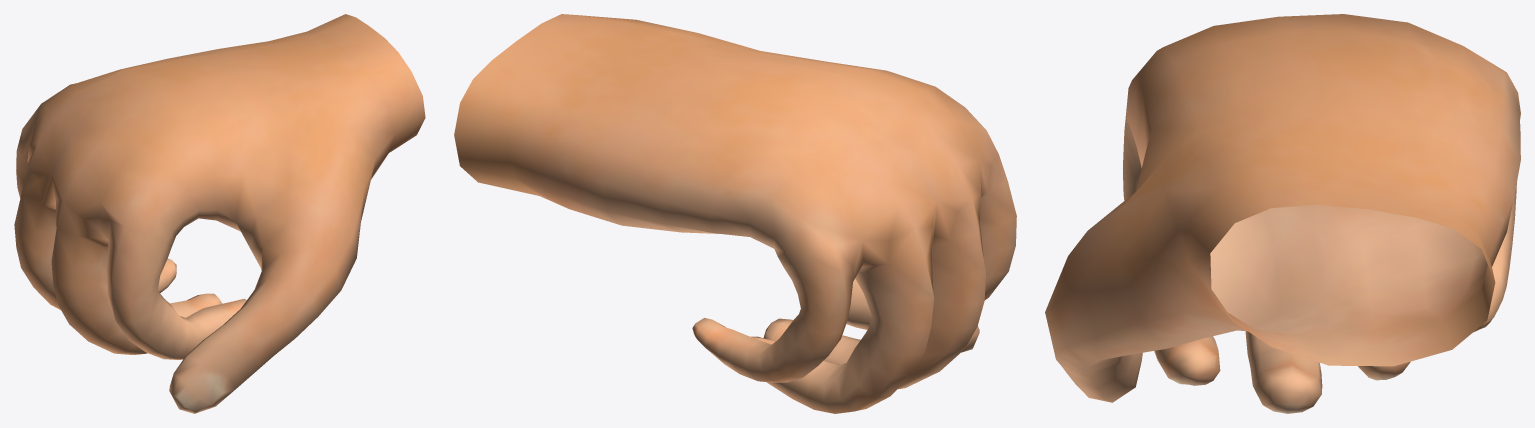
Rendered from H_grip_medium.fbx.
3 views of the same model, side by side, from view 1: azimuth 30°, elevation 25°; view 2: azimuth 150°, elevation 25°; view 3: azimuth 270°, elevation 25° (orthographic). The views are drawn at different scales.
Parts seen in each view (by area): view 1: H_grip_medium; view 2: H_grip_medium; view 3: H_grip_medium.
Boxes of the visible parts, bbox=[...] form: H_grip_medium: bbox=[14, 14, 425, 413]; H_grip_medium: bbox=[454, 14, 1016, 413]; H_grip_medium: bbox=[1045, 14, 1520, 413].
Bounding box in the file's own units: 13.16 × 9.27 × 10.35.
Materials: 1 (1 with a texture image).
